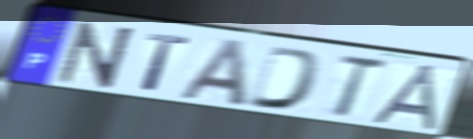A: (175, 36, 251, 109), (366, 63, 443, 134)
D: (244, 43, 326, 113)
N: (54, 19, 139, 90)
T: (331, 53, 390, 120), (140, 30, 193, 95)
